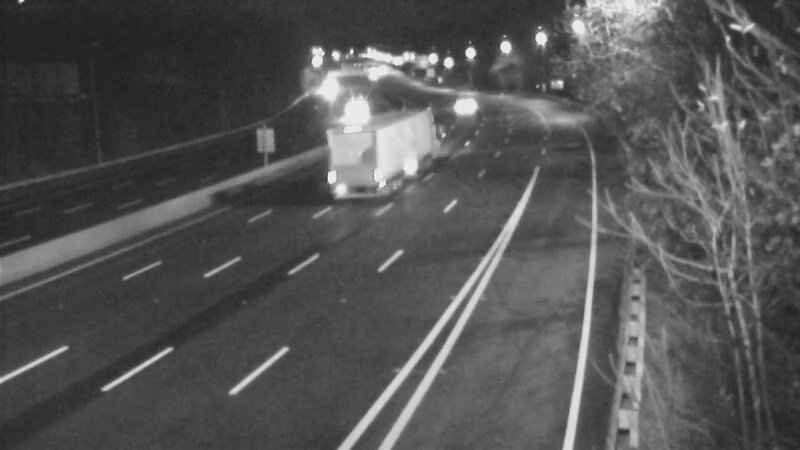vehicle: (441, 74, 491, 124), (360, 123, 410, 173), (335, 84, 385, 134), (306, 60, 356, 110)
